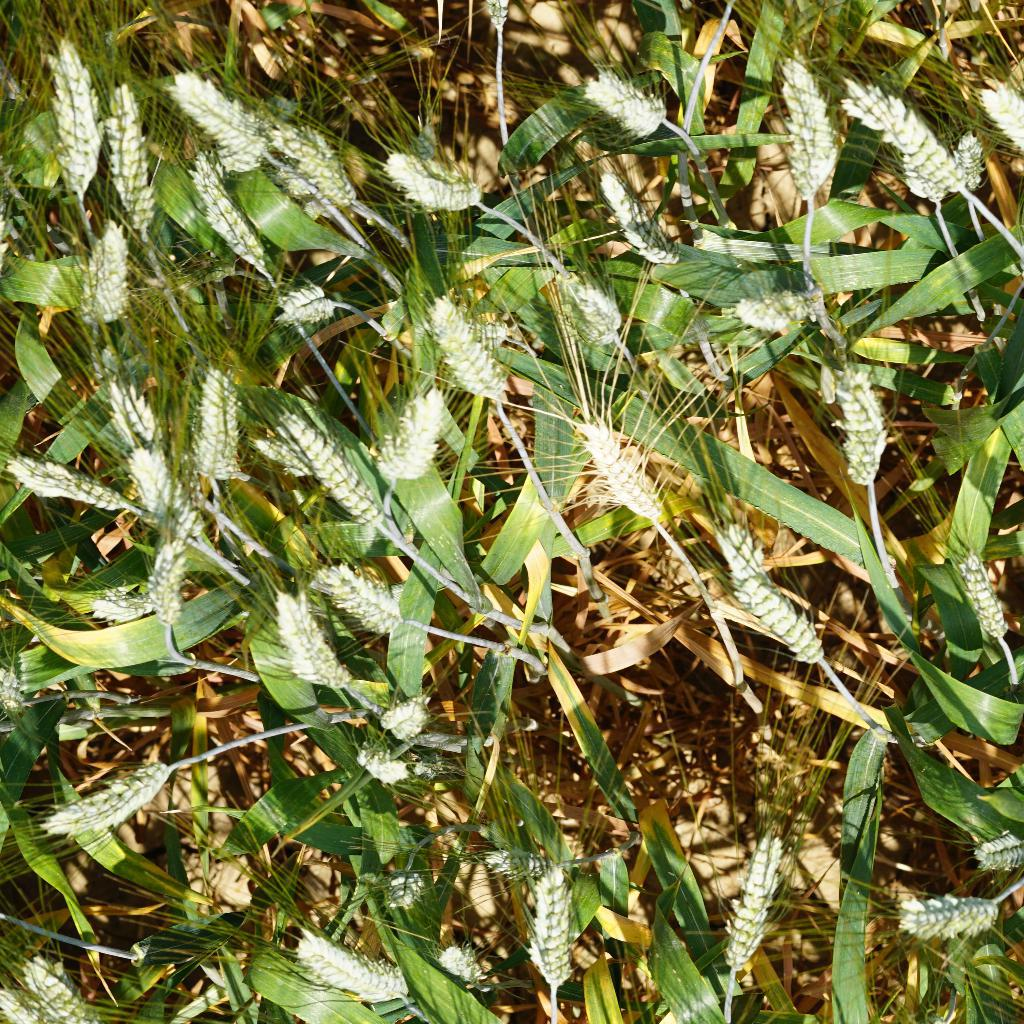0-0: (706, 526, 833, 669), (561, 404, 675, 549), (30, 740, 187, 837), (269, 397, 384, 523), (283, 920, 421, 1020), (410, 292, 514, 417), (699, 817, 785, 968), (574, 160, 683, 277), (0, 449, 153, 531), (176, 150, 272, 276), (866, 82, 968, 198), (40, 23, 103, 210), (96, 74, 172, 228), (776, 49, 847, 204), (821, 359, 903, 493), (164, 60, 268, 165), (265, 589, 361, 699), (183, 355, 256, 496), (260, 111, 357, 217), (298, 559, 421, 638), (520, 848, 585, 996), (529, 262, 630, 357), (361, 381, 449, 489), (875, 873, 1004, 944), (567, 53, 671, 137), (68, 220, 141, 336), (23, 950, 137, 1024), (380, 150, 489, 221), (950, 546, 1016, 651), (92, 360, 163, 450), (142, 538, 195, 641), (736, 281, 823, 342), (262, 272, 340, 339), (974, 77, 1024, 180), (112, 444, 179, 518), (428, 937, 501, 998), (88, 575, 157, 636), (346, 737, 421, 793), (467, 834, 556, 879), (246, 419, 303, 481), (961, 818, 1024, 874), (949, 122, 990, 187), (378, 688, 430, 737), (465, 312, 521, 354), (0, 666, 44, 718), (1, 984, 56, 1024), (405, 122, 446, 171), (369, 858, 411, 901)
